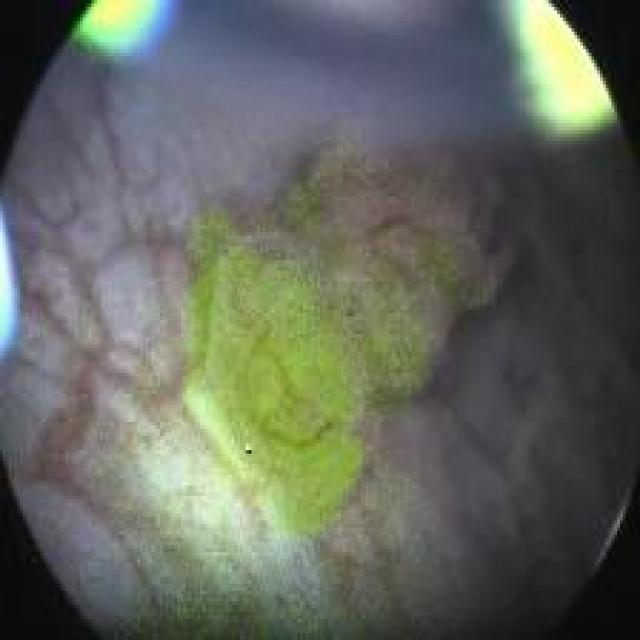blur: (447, 169, 629, 577)
color misalignment: (77, 9, 612, 137), (517, 9, 609, 135), (78, 4, 167, 55), (5, 220, 27, 377), (344, 307, 353, 317)
